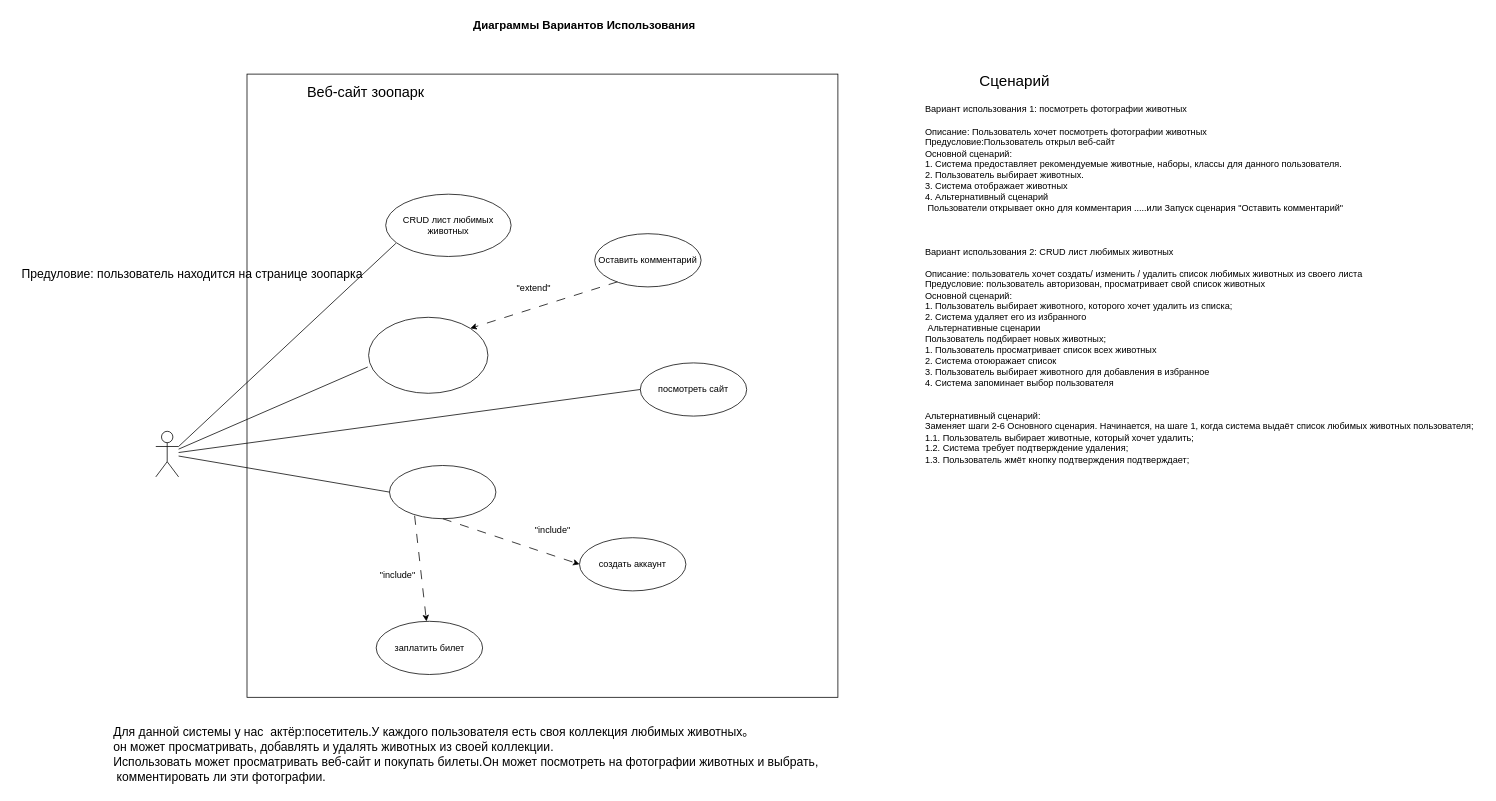
Some shapes in this 1496 by 801 pixel diagram are drawn without their labels. The box of each missing label's shape, as (x1, y1, x2, y2) in pixels:
visitor: (155, 431, 179, 477)
купить билет: (389, 465, 496, 519)
посмотреть фотографии животных: (368, 317, 488, 393)
